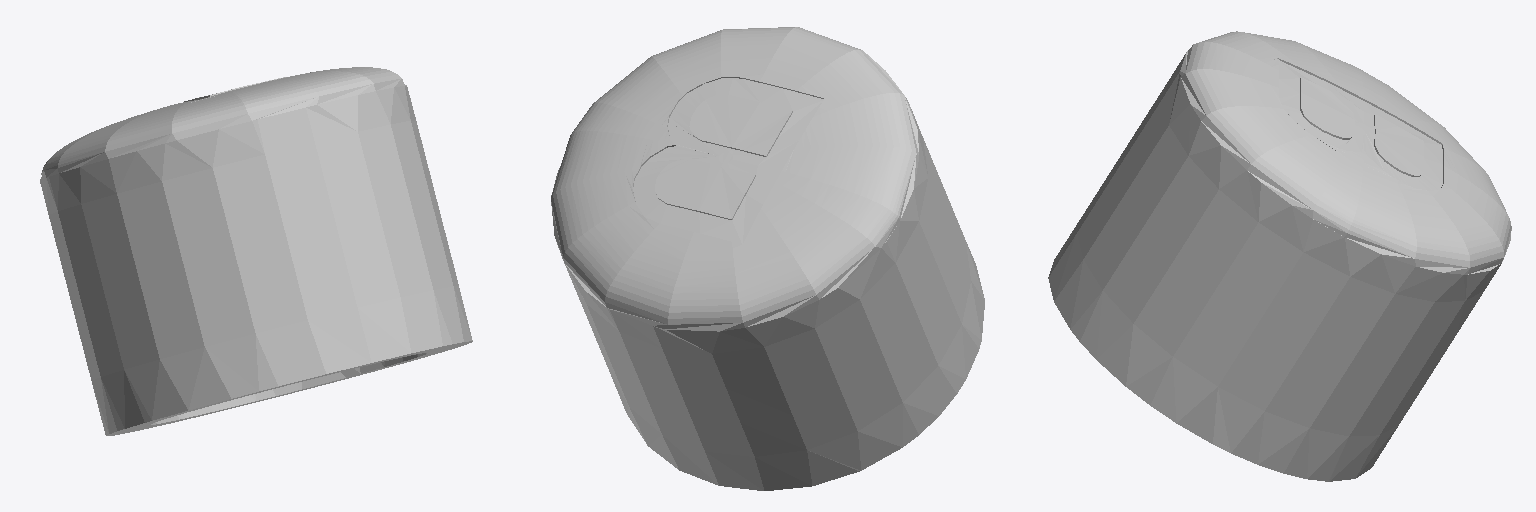
Rendered from button_b.obj.
3 views of the same model, side by side, from view 1: azimuth 30°, elevation 25°; view 2: azimuth 150°, elevation 25°; view 3: azimuth 270°, elevation 25° (orthographic).
Parts seen in each view (by area): view 1: button_b.001; view 2: button_b.001; view 3: button_b.001.
Part boxes in pixels (x1,y1,x2,y2): button_b.001: (40,67,472,435); button_b.001: (551,27,984,490); button_b.001: (1048,31,1511,481).
Bounding box in the file's own units: 0.01 × 0.0113 × 0.0122.